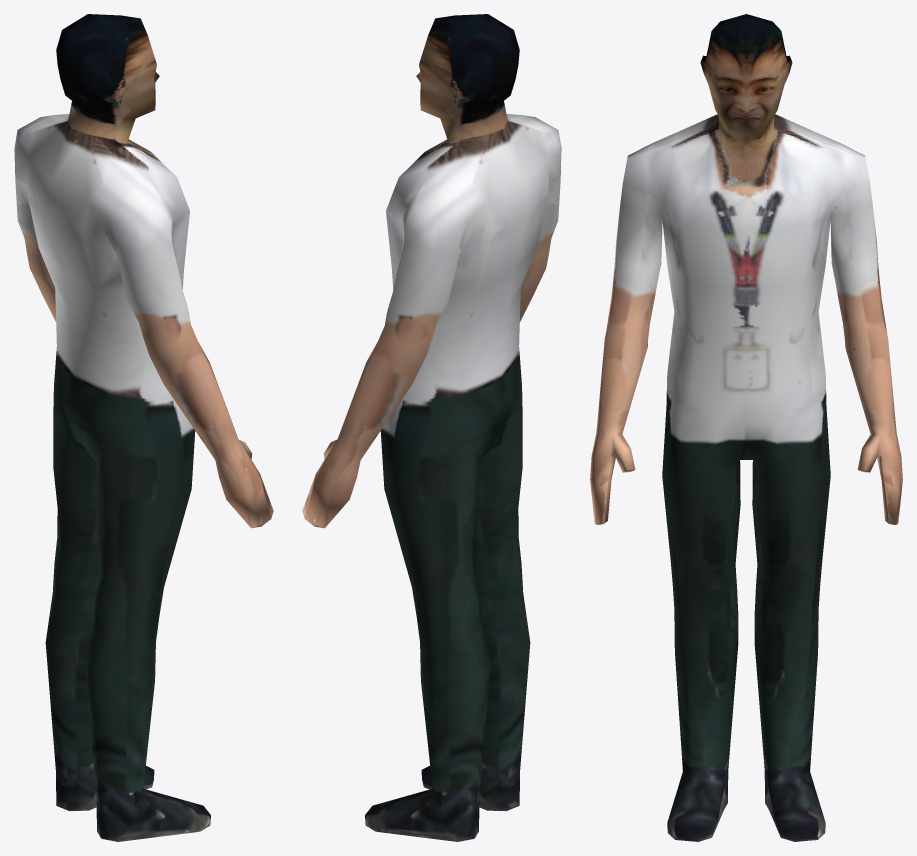
The model's file is glad.fbx.
The picture shows the model from 3 angles, left to right: view 1: azimuth 30°, elevation 25°; view 2: azimuth 150°, elevation 25°; view 3: azimuth 270°, elevation 25°; orthographic projection.
Visible parts, largest first — view 1: glad; view 2: glad; view 3: glad.
Part boxes in pixels (bbox=[...]): glad: bbox=[14, 14, 273, 841]; glad: bbox=[302, 14, 561, 841]; glad: bbox=[590, 14, 902, 841].
Bounding box in the file's own units: 92.32 × 462 × 166.
